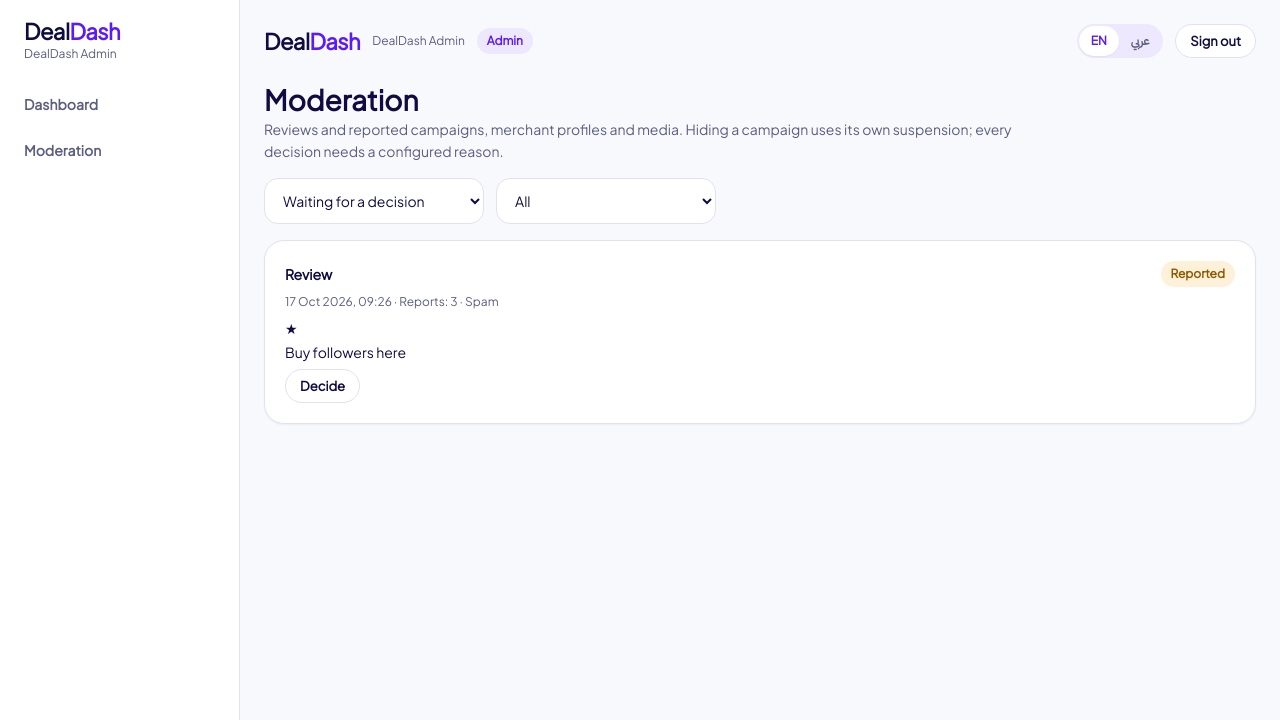
Test: Stage 8 admin operations › moderation: a decision needs a configured reason and a written reason
Expected: the element with test id "mod-REVIEW-rv1" shows "Reports: 3", [285,261,1235,403]
Expected: the element with test id "mod-REVIEW-rv1" shows "Spam", [465,294,499,309]
Click the button with test id "mod-open-rv1". click: (323, 386)
box: [285,369,360,403]
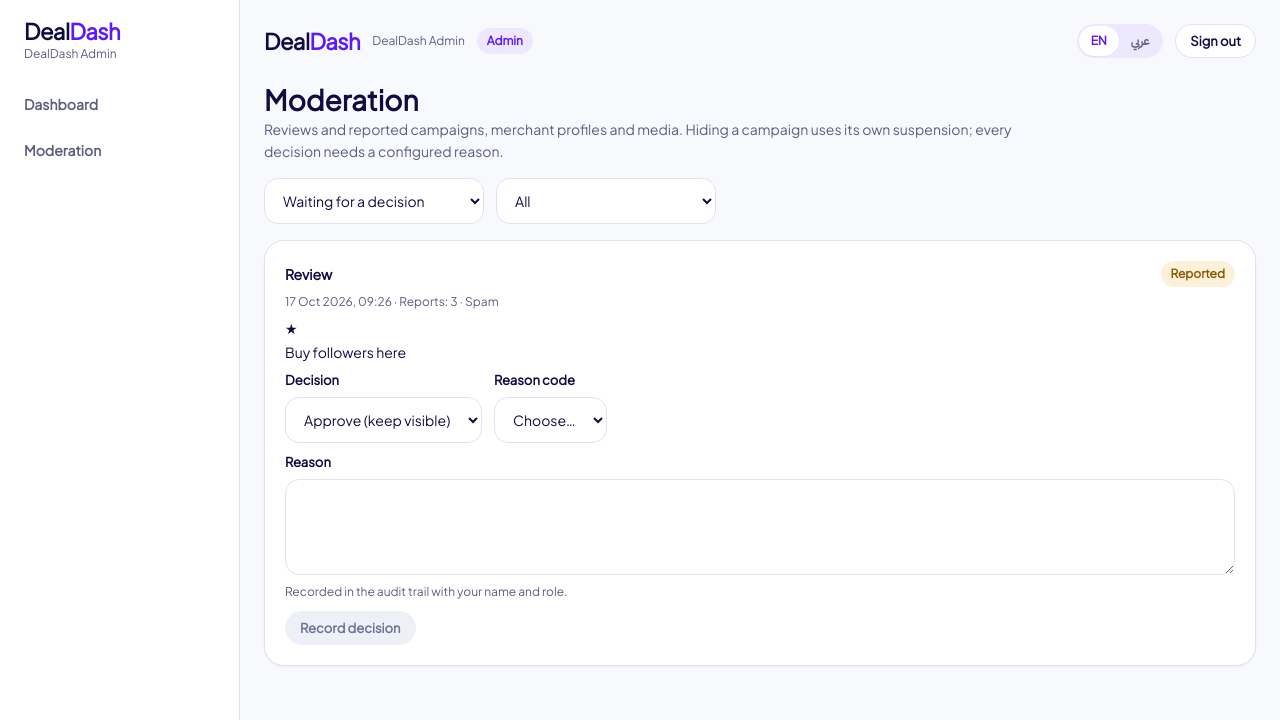
Result: the button with test id "mod-submit" is disabled at [285,611,416,645]
